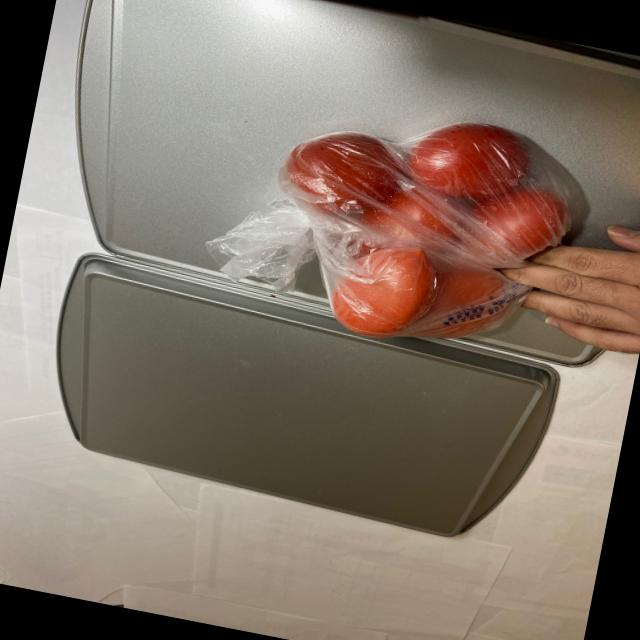tomato: (233, 86, 582, 370)
